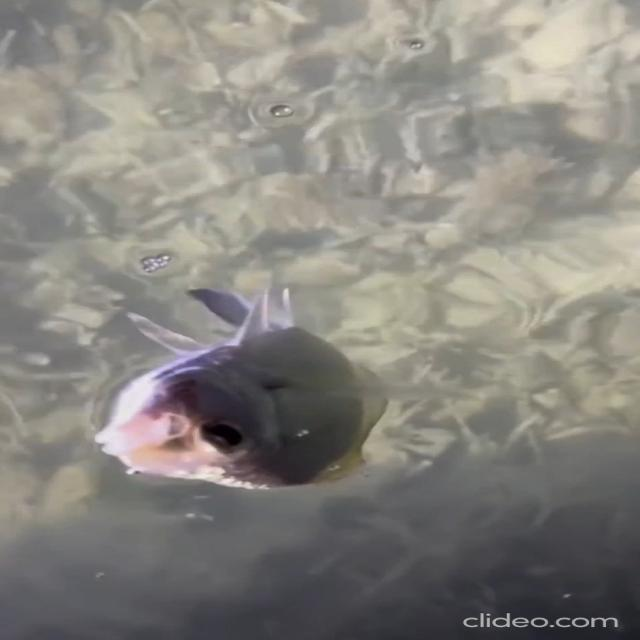fish: (81, 274, 393, 505)
